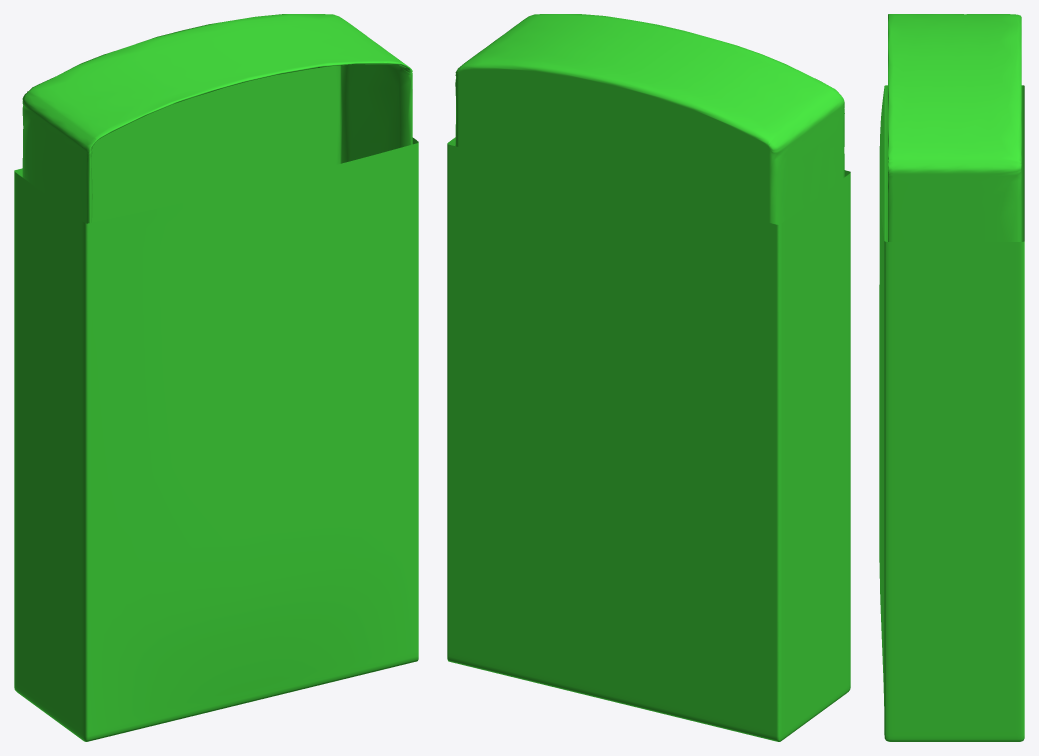
File: Scatola di fiammiferi.fbx
3 renders of one model, left to right at view 1: azimuth 30°, elevation 25°; view 2: azimuth 150°, elevation 25°; view 3: azimuth 270°, elevation 25°, orthographic. The views are drawn at different scales.
Visible parts, largest first — view 1: Cube.003; view 2: Cube.003; view 3: Cube.003.
Boxes of the visible parts, bbox=[...] form: Cube.003: bbox=[14, 14, 418, 741]; Cube.003: bbox=[447, 14, 850, 741]; Cube.003: bbox=[879, 14, 1024, 741].
Bounding box in the file's own units: 6.21 × 11.07 × 2.44.
